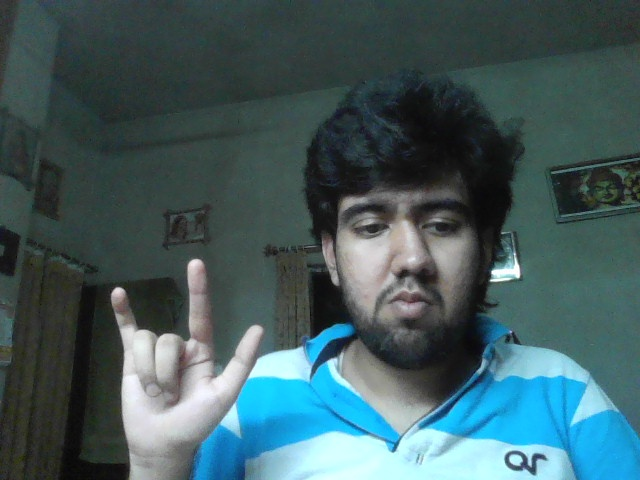ILoveYou: (111, 258, 264, 447)
